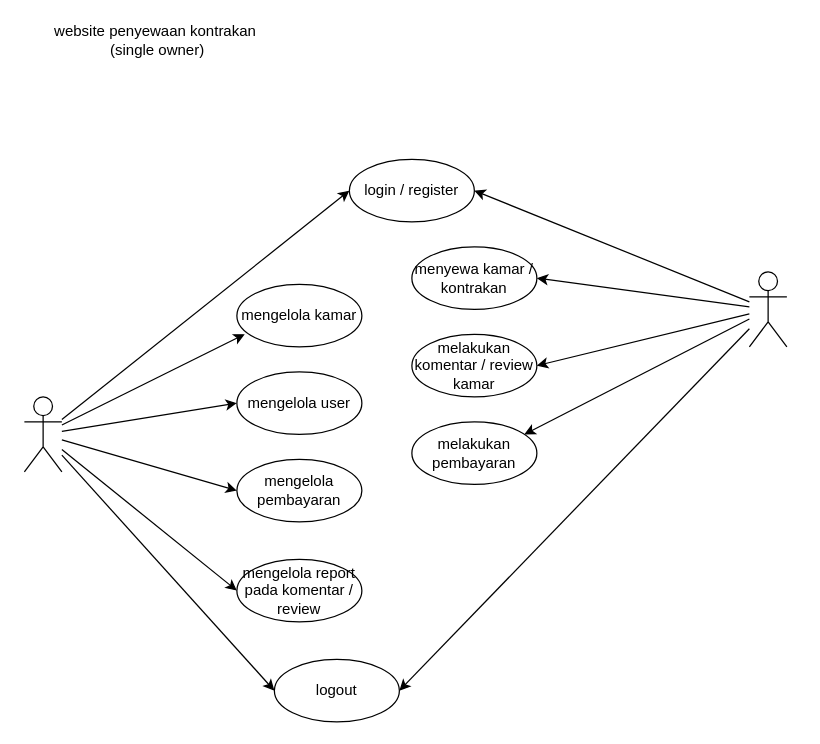
Image size: 820x744. Some labels were removed from this diagram. The box of each missing label's shape, as (x1, y1, x2, y2) in pixels:
Admin: (23, 396, 62, 472)
User / Penyewa: (748, 271, 787, 347)
